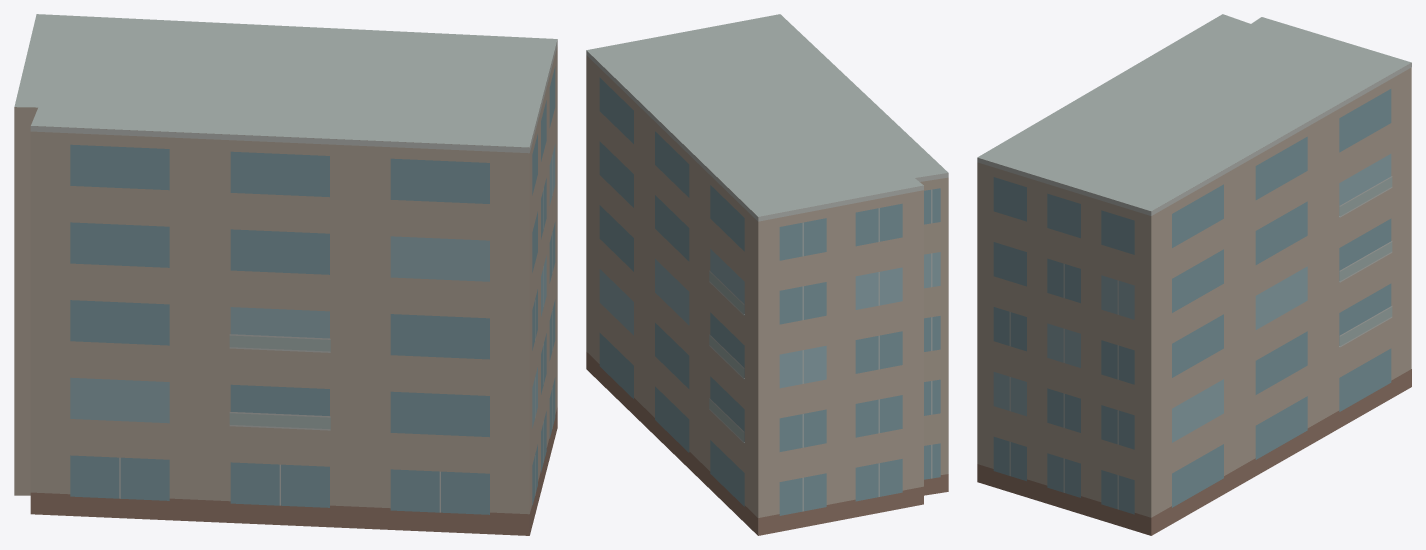
File: survey-upis-32828899.glb
The picture shows the model from 3 angles, left to right: view 1: azimuth 30°, elevation 25°; view 2: azimuth 150°, elevation 25°; view 3: azimuth 270°, elevation 25°; orthographic projection. The views are drawn at different scales.
Parts seen in each view (by area): view 1: survey-upis-32828899.tmp; view 2: survey-upis-32828899.tmp; view 3: survey-upis-32828899.tmp.
Boxes of the visible parts, <box> form: survey-upis-32828899.tmp: <box>14,14,557,535</box>; survey-upis-32828899.tmp: <box>586,14,948,535</box>; survey-upis-32828899.tmp: <box>977,14,1411,535</box>.
Bounding box in the file's own units: 21.53 × 16.5 × 20.03.
